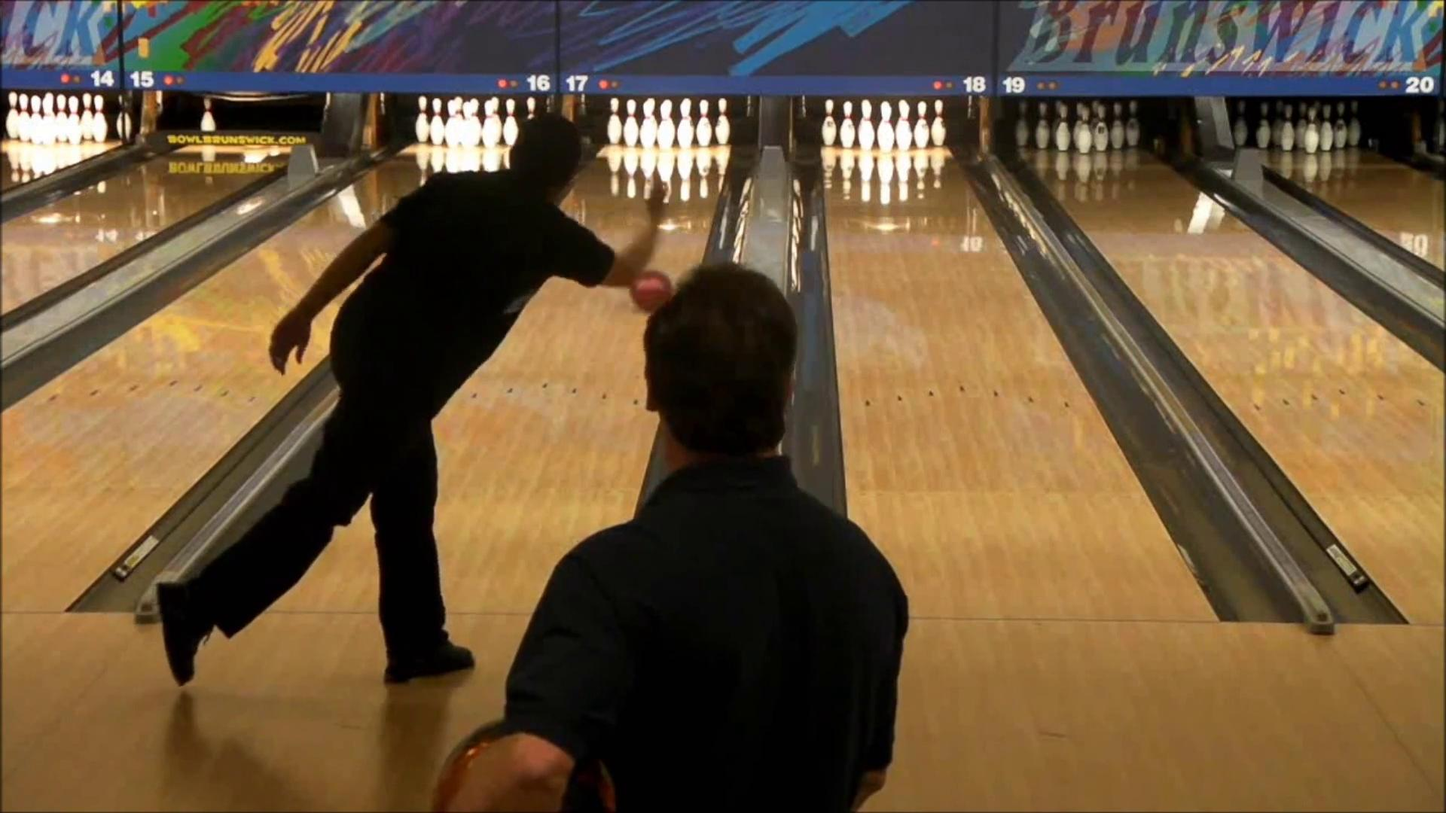victim: (141, 99, 686, 690), (426, 253, 915, 809)
